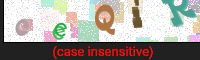Q: (89, 2, 120, 39)
R: (159, 1, 200, 30)
e: (10, 15, 36, 38), (50, 20, 69, 41)
i: (128, 1, 145, 32)
